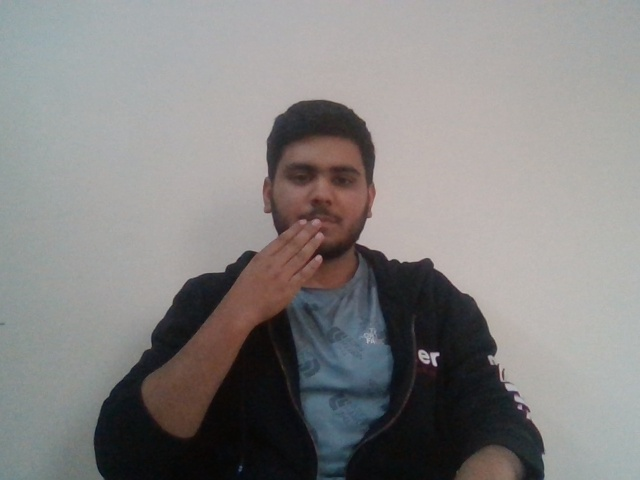Thanks: (239, 206, 350, 321)
